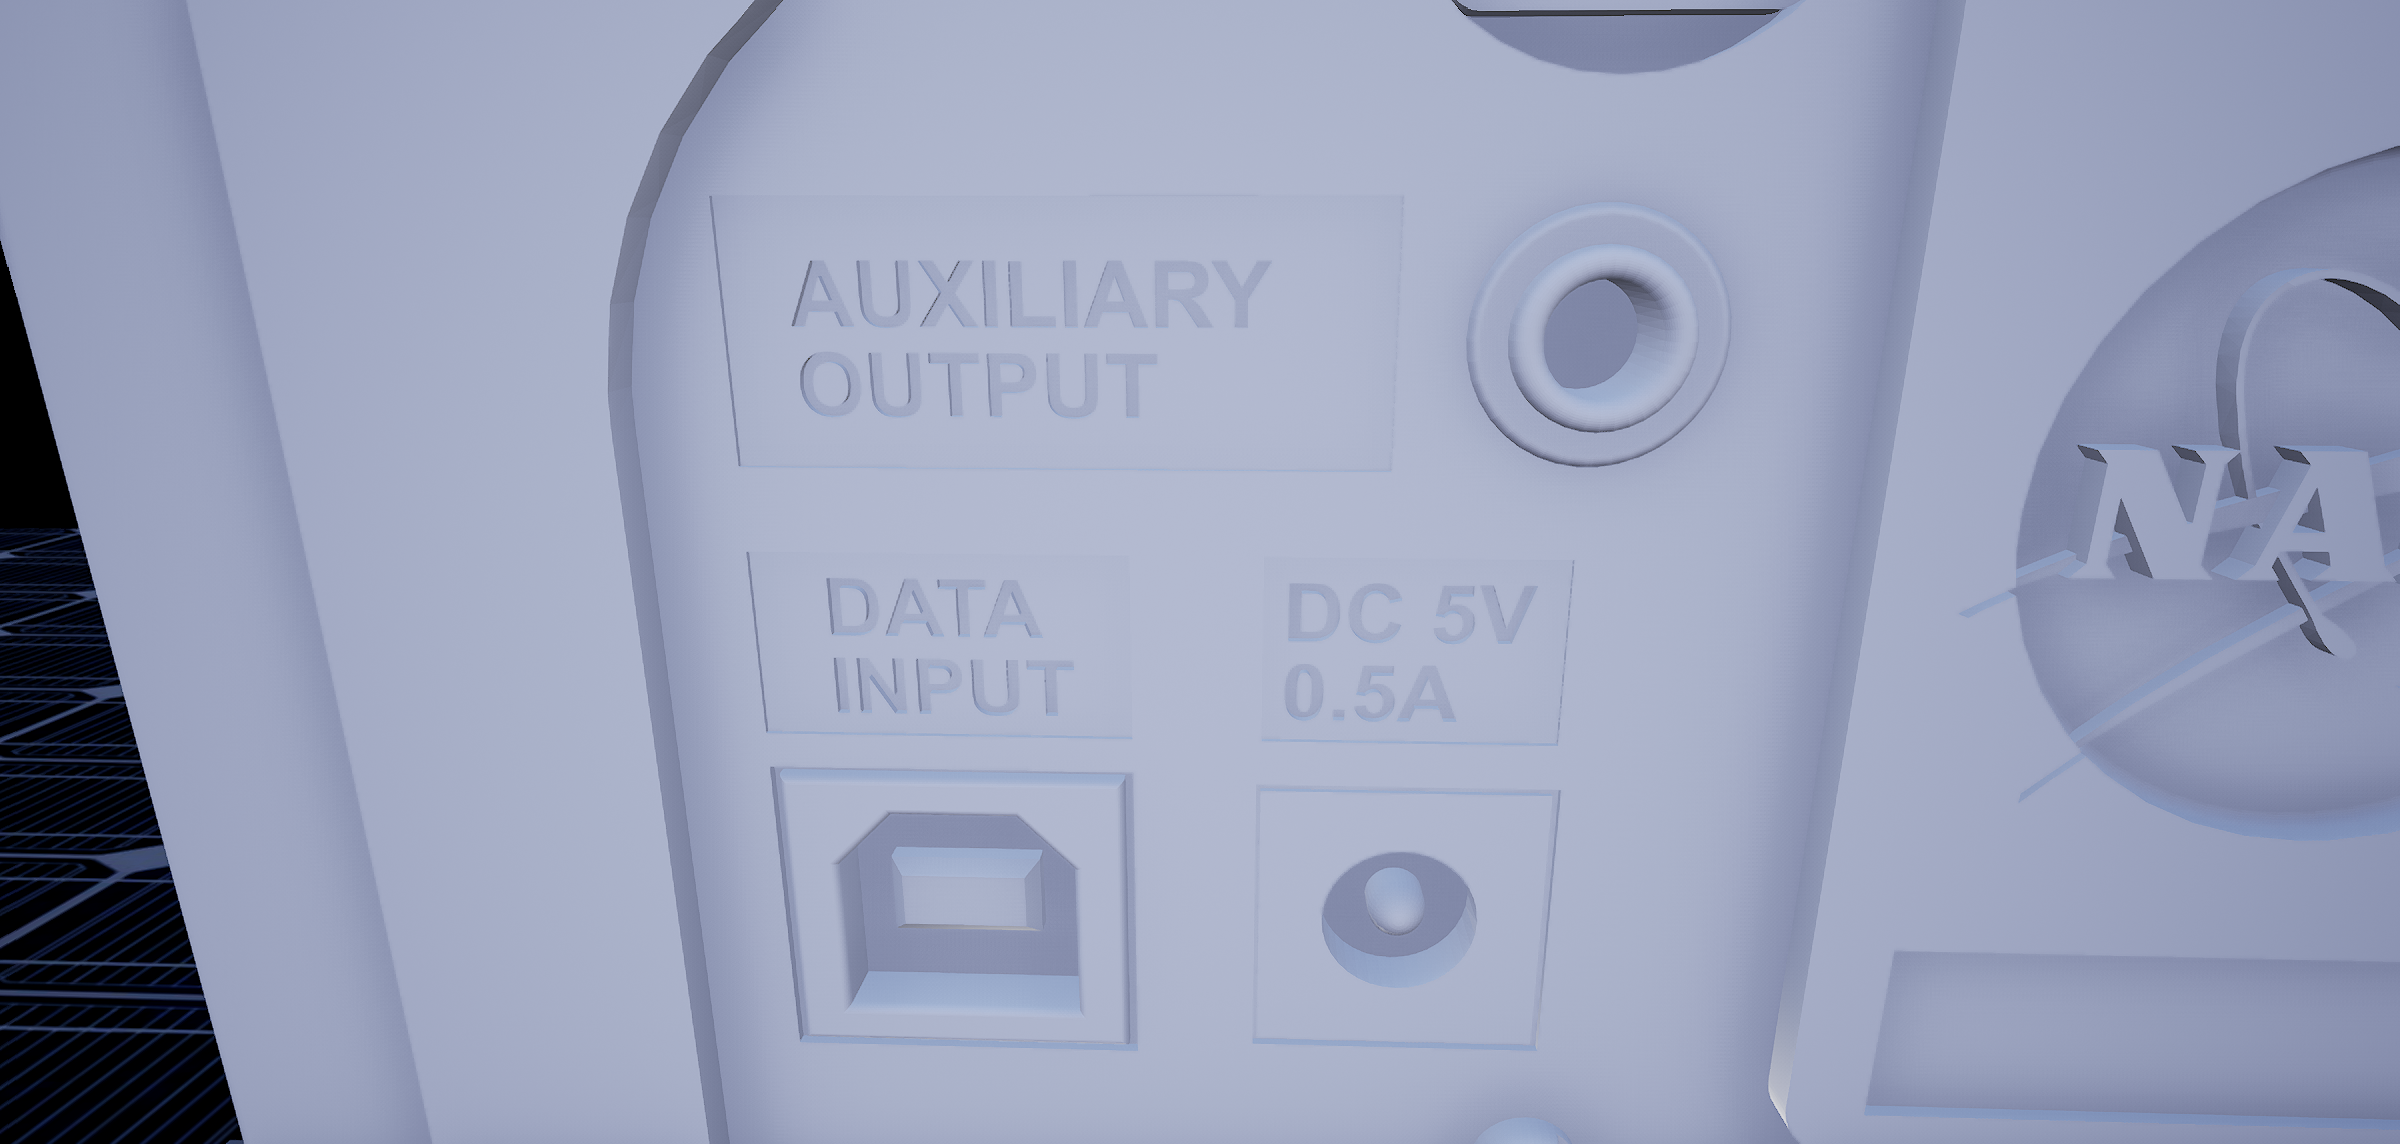aux: (1462, 193, 1746, 482)
dc: (1312, 842, 1495, 997)
usb: (827, 806, 1088, 1032)
